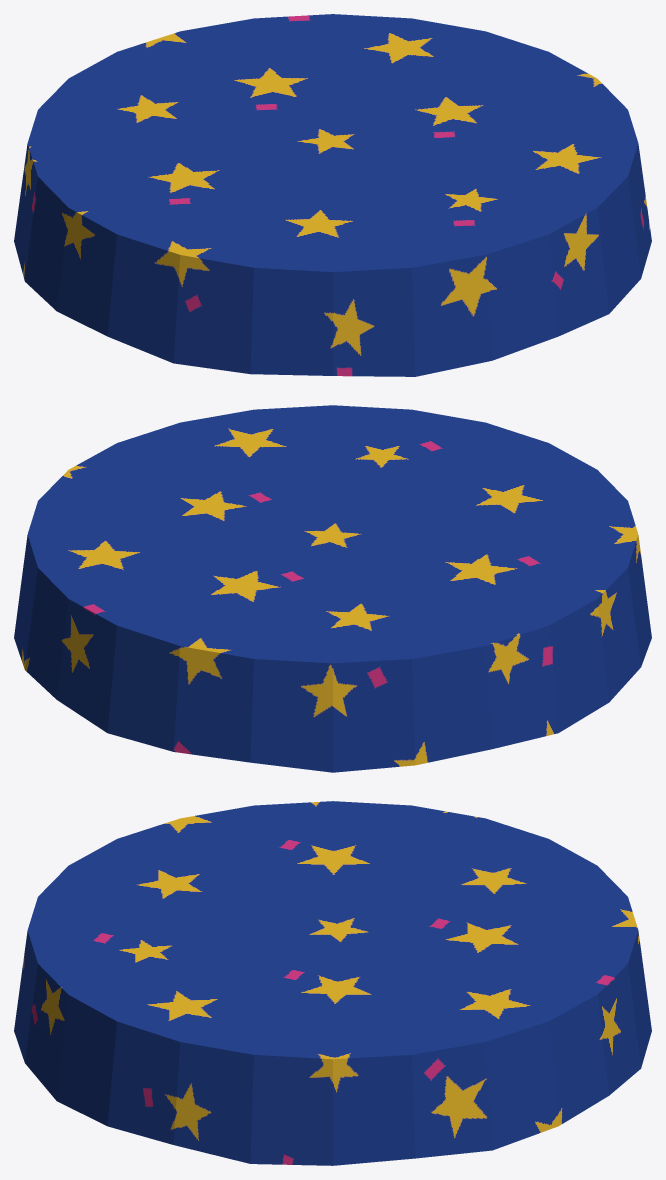
File: party_cloth_round_stars.glb
3 renders of one model, top to bottom at view 1: azimuth 30°, elevation 25°; view 2: azimuth 150°, elevation 25°; view 3: azimuth 270°, elevation 25°, orthographic.
Visible parts, largest first — view 1: party_cloth_round_stars_body; view 2: party_cloth_round_stars_body; view 3: party_cloth_round_stars_body.
Part boxes in pixels (bbox=[...]): party_cloth_round_stars_body: bbox=[14, 14, 651, 376]; party_cloth_round_stars_body: bbox=[14, 405, 651, 772]; party_cloth_round_stars_body: bbox=[14, 801, 651, 1165].
Bounding box in the file's own units: 1.28 × 0.2302 × 1.28.
Materials: 1 (1 with a texture image).
